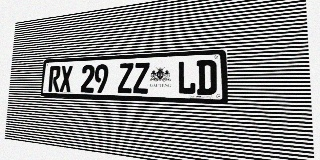2: (81, 64, 95, 93)
9: (94, 64, 109, 93)
D: (197, 60, 217, 95)
L: (177, 60, 196, 95)
R: (48, 66, 61, 92)
X: (60, 65, 73, 92)
Z: (133, 62, 150, 94), (118, 63, 133, 93)
